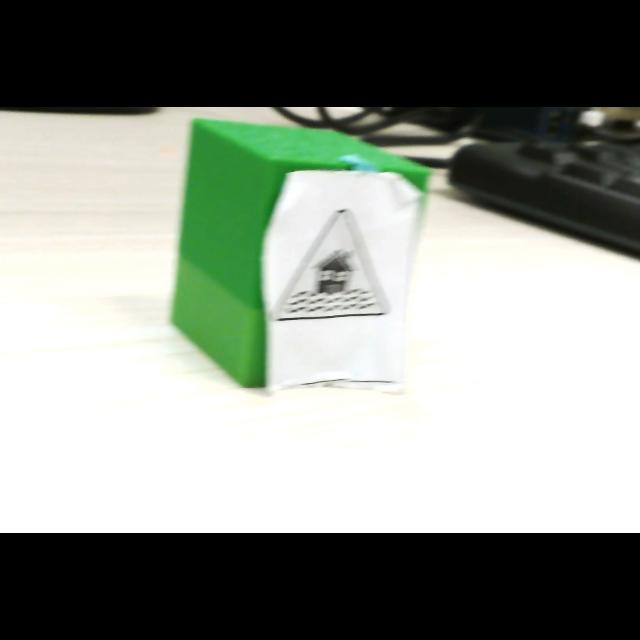Tsunami: (270, 210, 390, 323)
